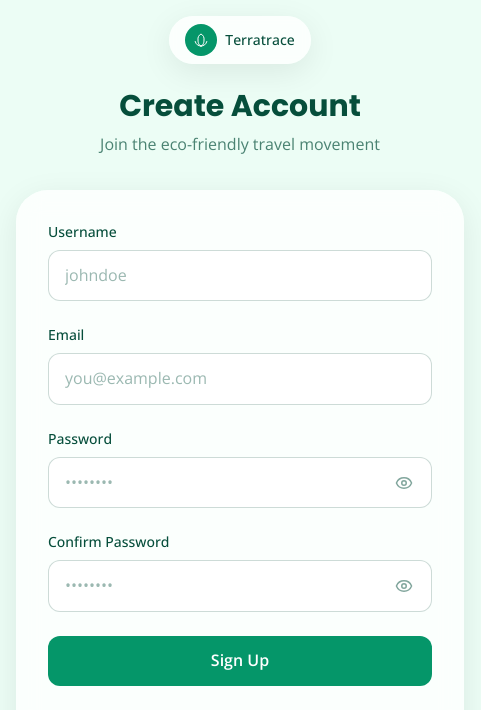
SignupPage › shows signup API errors and stays on the page
The width and height of the screenshot is (481, 710).
In the field labelled "Username": (240, 275) [48,250,432,301], type "traveler"
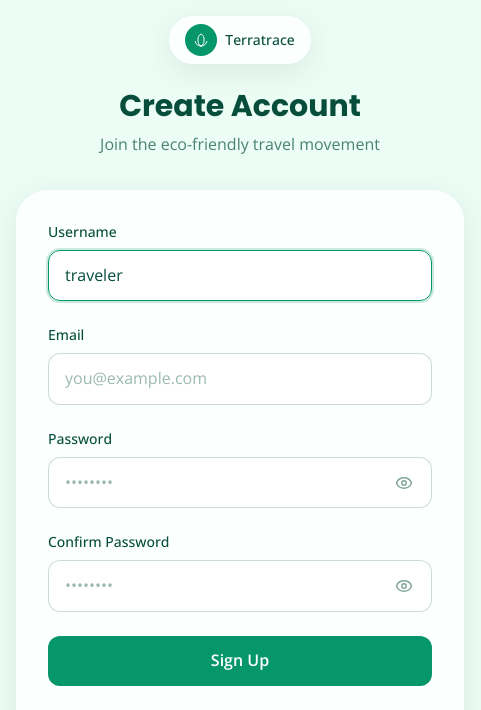
In the field labelled "Email": (240, 379) [48,353,432,405], type "taken@example.com"
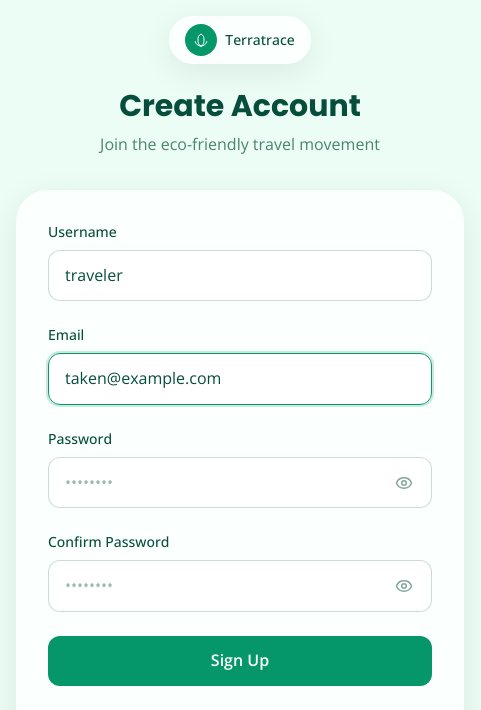
In the password field labelled "Password": (240, 483) [48,457,432,508], type "password123"
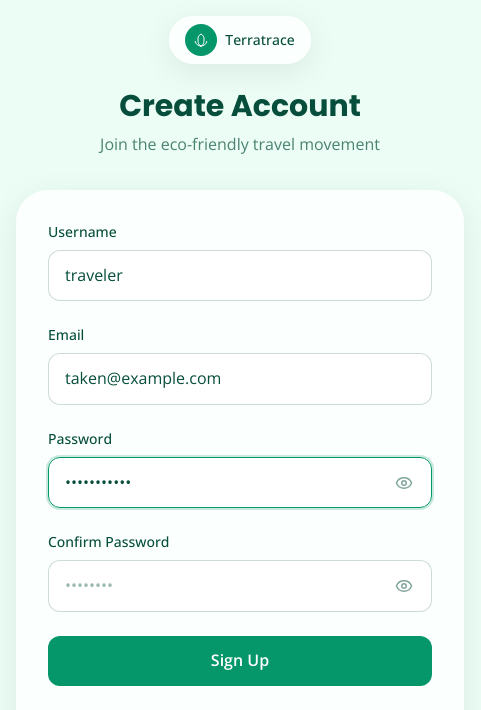
In the password field labelled "Confirm Password": (240, 586) [48,560,432,612], type "password123"
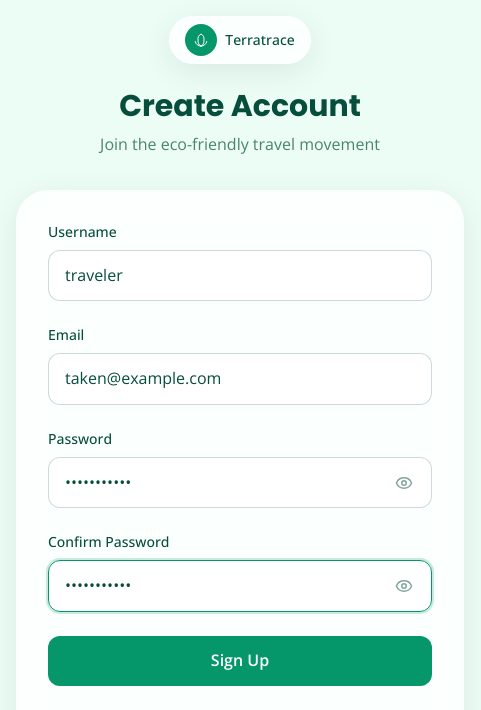
Click the button "Sign Up": (240, 661) [48,636,432,686]
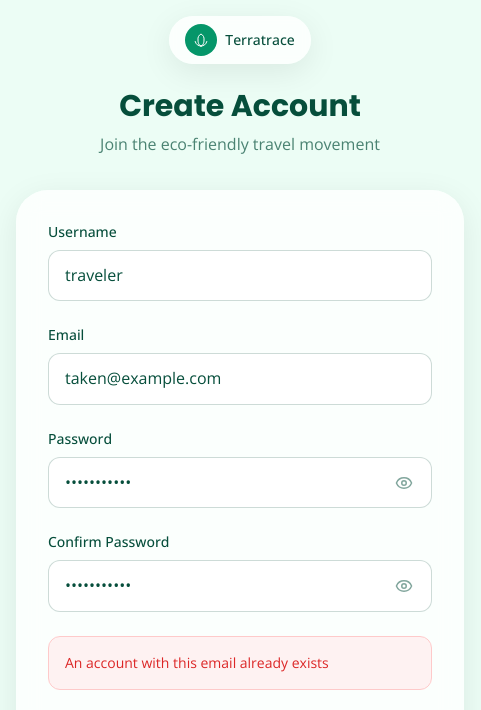
Expected: the text "An account with this email already exists" is shown, [65,653,329,672]
